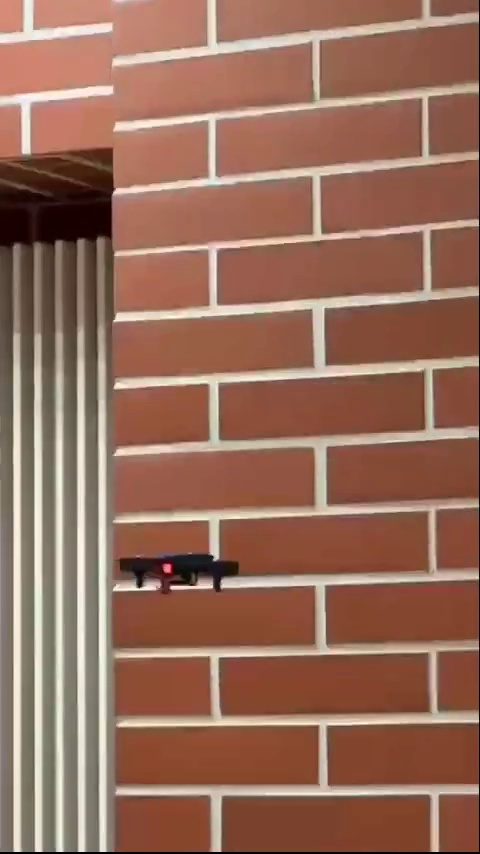drone: (117, 543, 242, 592)
